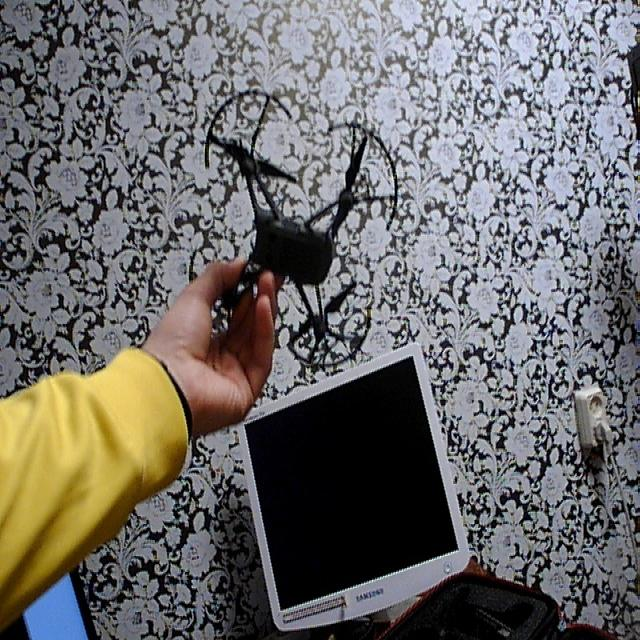drone: (186, 76, 403, 376)
